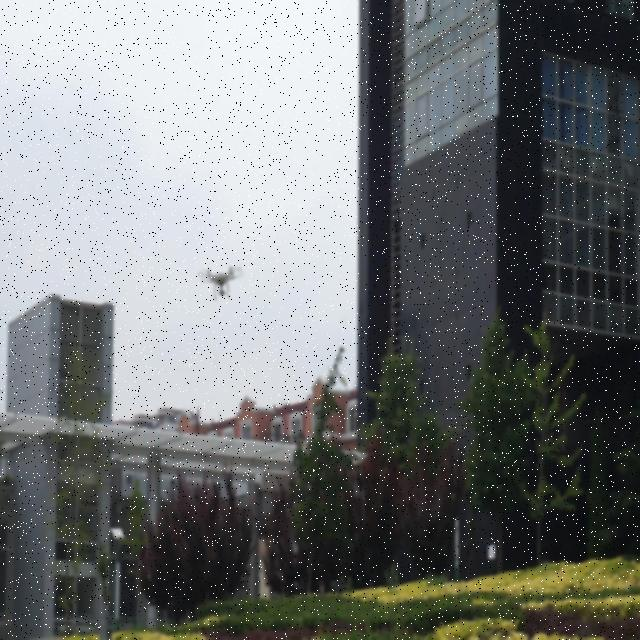UAV: (198, 266, 244, 300)
